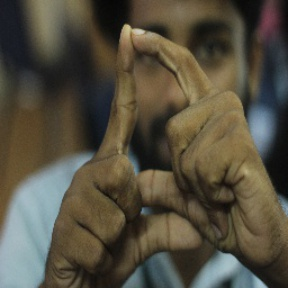D: (94, 19, 234, 218)
